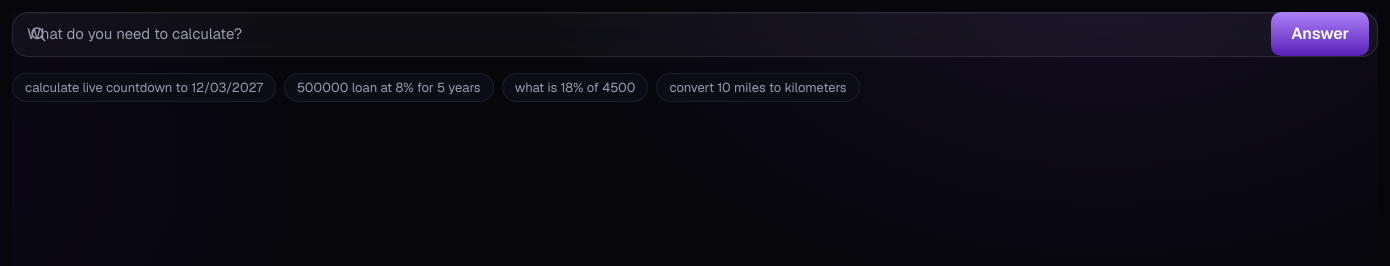
Test: IntentSearch › shows an inline result for pure arithmetic
Type "128 + 256" into the field at (695, 34), box [13,13,1377,56]
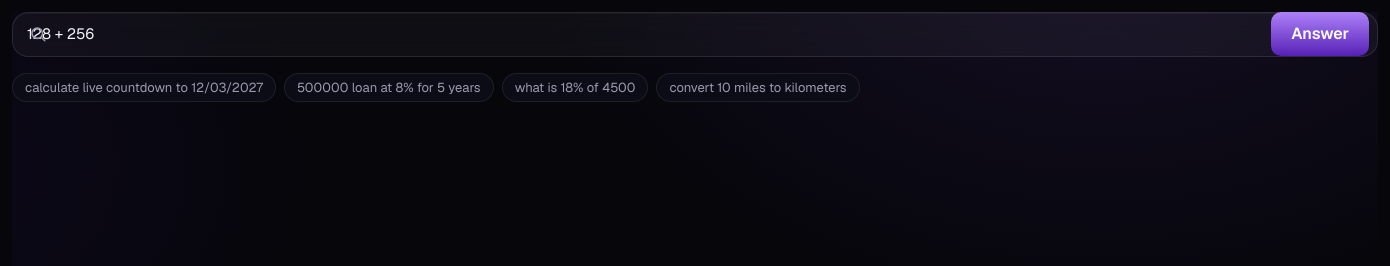
Submit the form, box [12,12,1378,56]
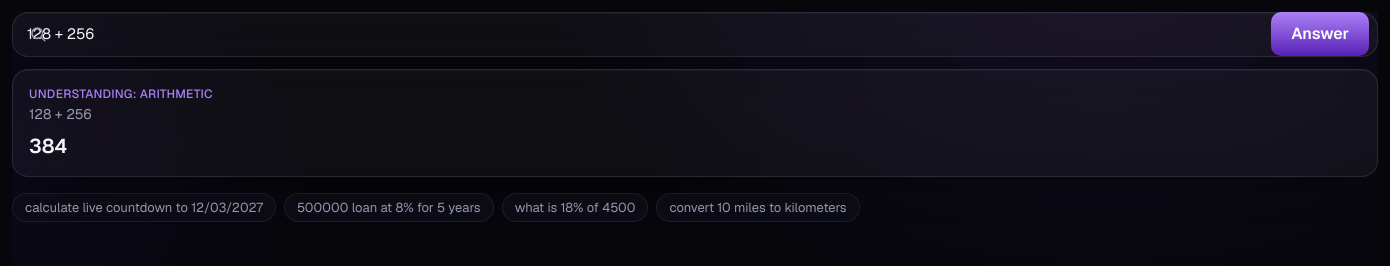
Check: the message "Understanding: Arithmetic 128 + 256 384" is shown, box [12,68,1378,176]
Check: the text "384" is shown, box [29,132,68,158]
